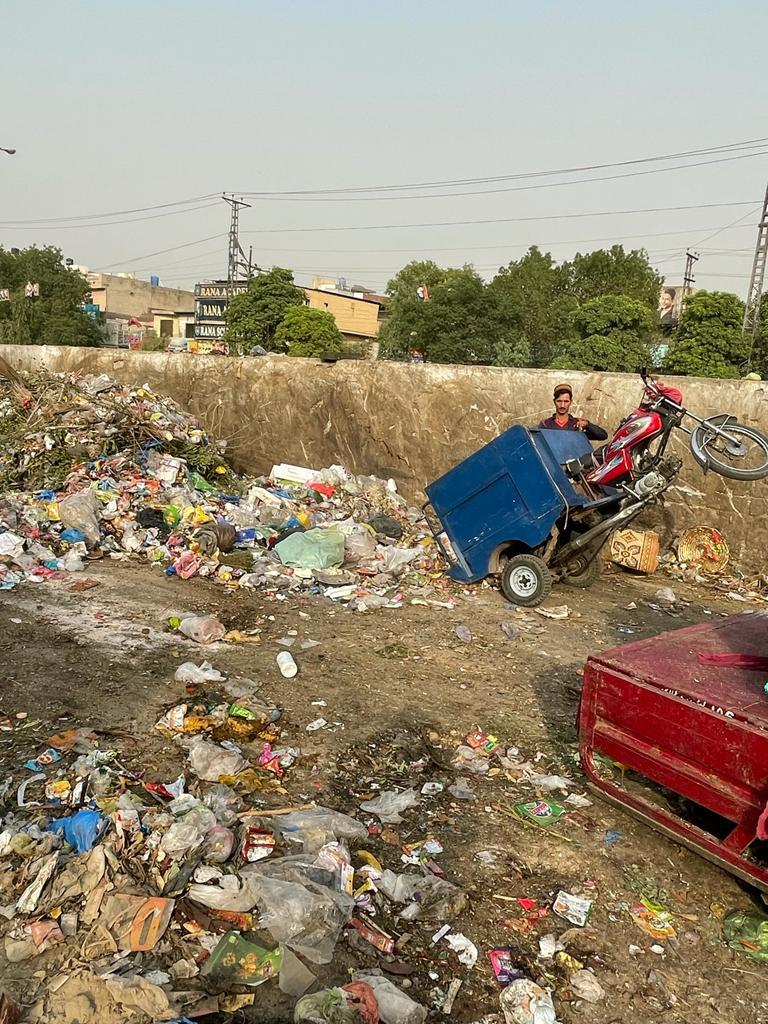garbage: (17, 684, 556, 1024), (0, 358, 468, 626)
